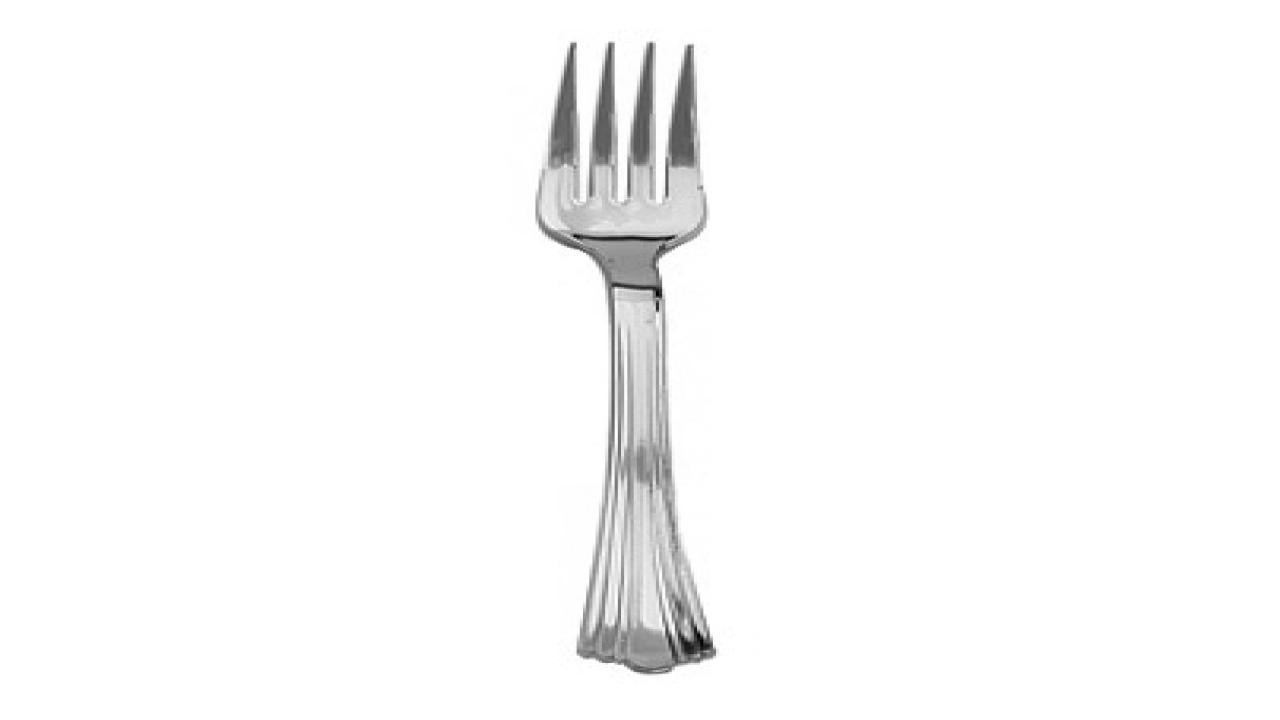fork: (532, 39, 716, 674)
